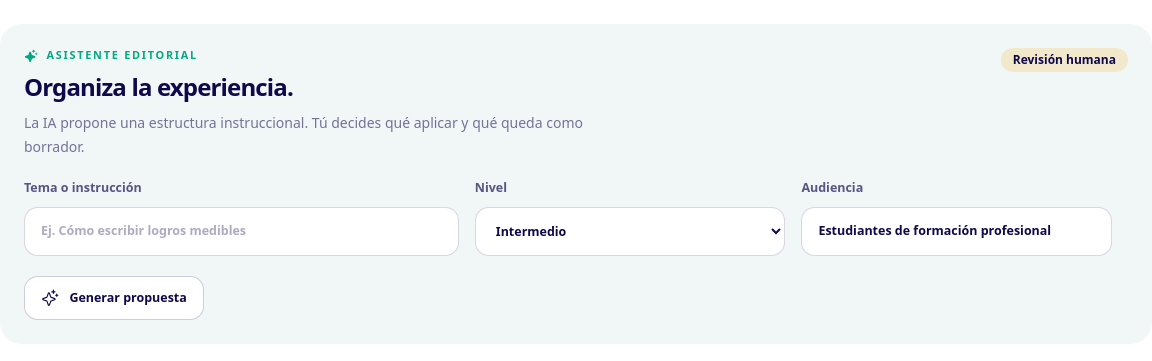
Test: ContentAiAssistant › surfaces provider errors
The width and height of the screenshot is (1152, 361).
Click the button "Generar propuesta" at x=114, y=298, box x1=24 y1=276 x2=204 y2=320
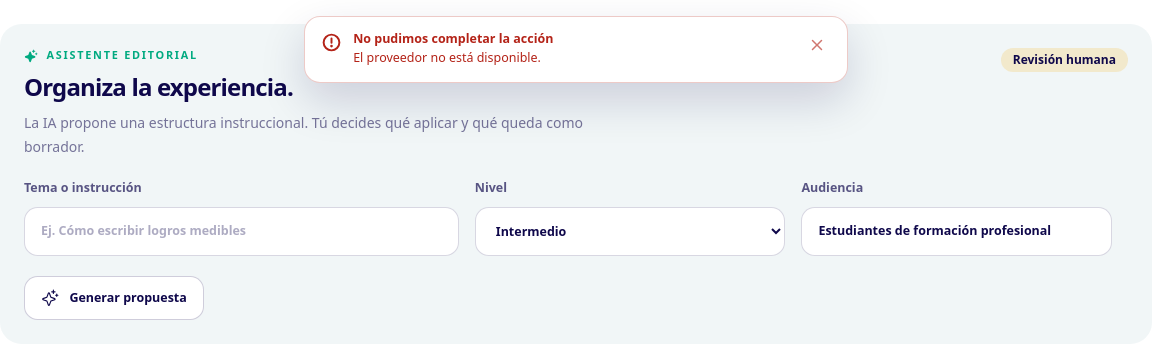
Check: the message shows "El proveedor no está disponible.", box x1=353 y1=49 x2=541 y2=66
